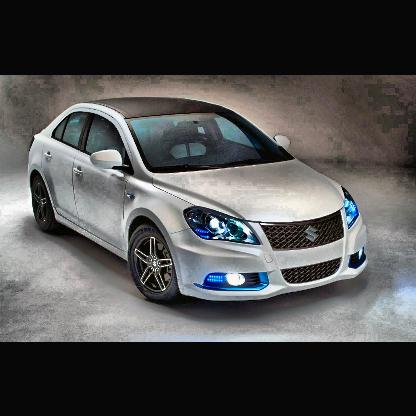Suzuki Kizashi Sedan 2012: (30, 97, 369, 301)
